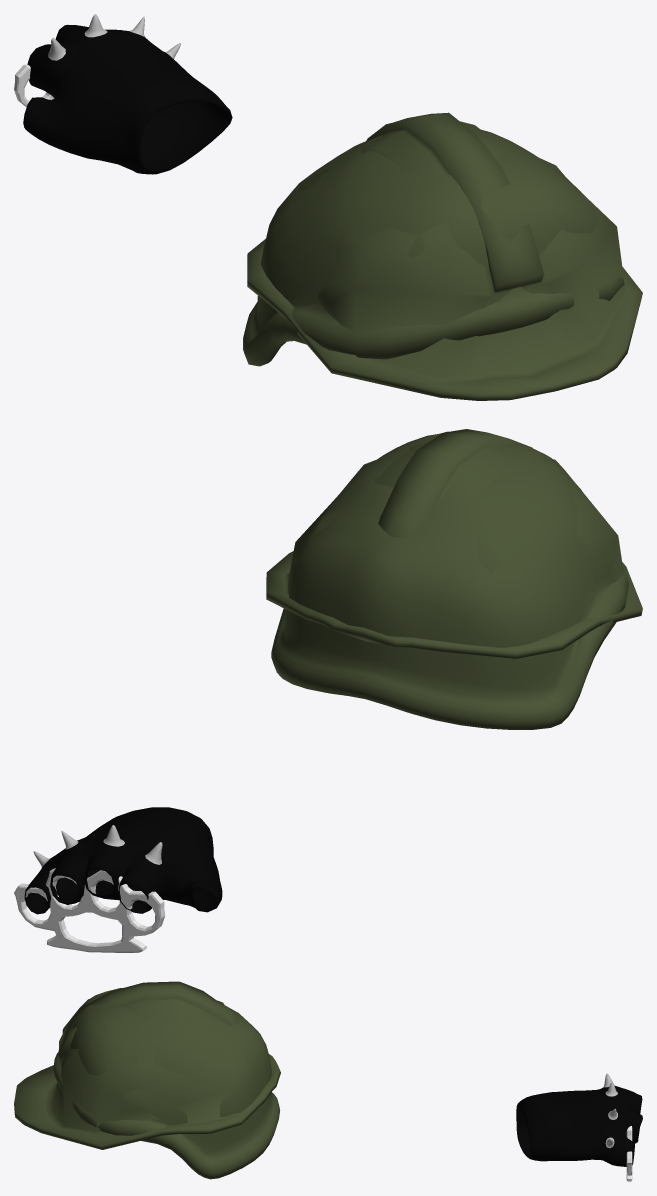
Rendered from Equipement.fbx.
3 views of the same model, one above another, from view 1: azimuth 30°, elevation 25°; view 2: azimuth 150°, elevation 25°; view 3: azimuth 270°, elevation 25° (orthographic). The views are drawn at different scales.
Parts seen in each view (by area): view 1: Safety Hlemet, Military Helmet, GLove; view 2: Military Helmet, Safety Hlemet, GLove, Knucleduster; view 3: Military Helmet, Safety Hlemet, GLove.
Boxes of the visible parts, bbox=[...] form: Safety Hlemet: bbox=[247, 112, 642, 400]; Military Helmet: bbox=[243, 129, 624, 366]; GLove: bbox=[23, 14, 232, 174]; Military Helmet: bbox=[271, 431, 628, 729]; Safety Hlemet: bbox=[266, 429, 642, 658]; GLove: bbox=[24, 807, 222, 914]; Knucleduster: bbox=[14, 868, 165, 952]; Military Helmet: bbox=[53, 988, 280, 1179]; Safety Hlemet: bbox=[14, 981, 280, 1149]; GLove: bbox=[516, 1073, 642, 1166].
Bounding box in the file's own units: 190 × 156 × 502.
Materials: 2 (2 with a texture image).
